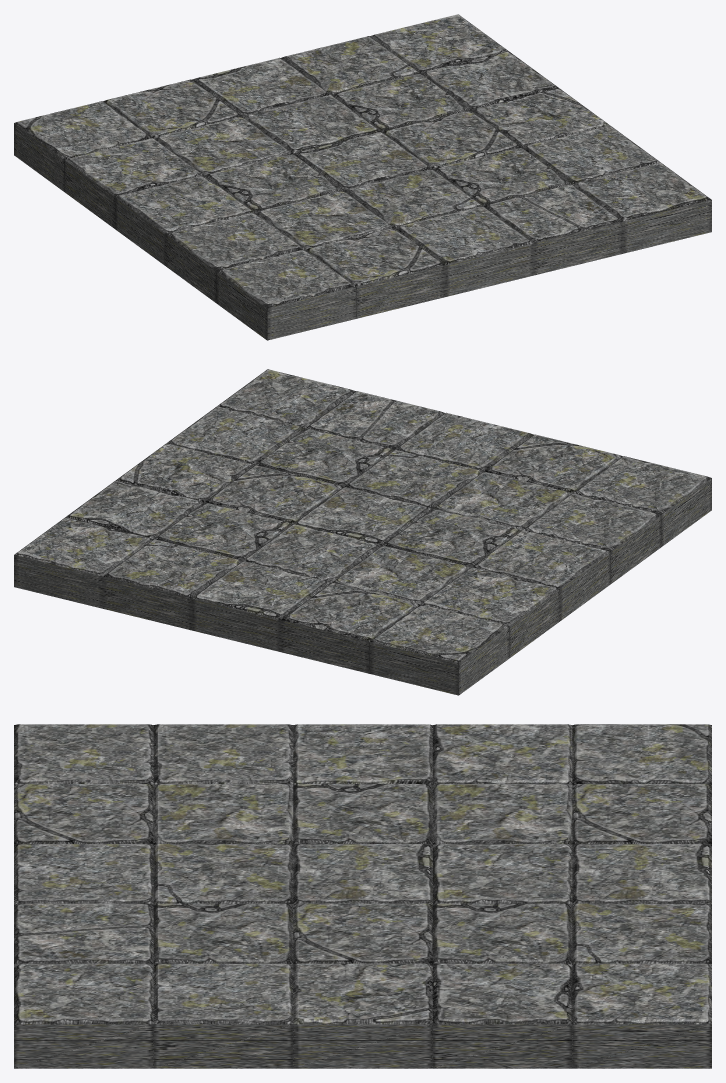
Rendered from floor.fbx.
The picture shows the model from 3 angles, top to bottom: view 1: azimuth 30°, elevation 25°; view 2: azimuth 150°, elevation 25°; view 3: azimuth 270°, elevation 25°; orthographic projection. The views are drawn at different scales.
Parts seen in each view (by area): view 1: Box001; view 2: Box001; view 3: Box001.
Boxes of the visible parts, <box> form: Box001: <box>14,14,711,340</box>; Box001: <box>14,369,711,695</box>; Box001: <box>14,724,711,1068</box>.
Size of the model in its own units: 142 by 10.42 by 140.
